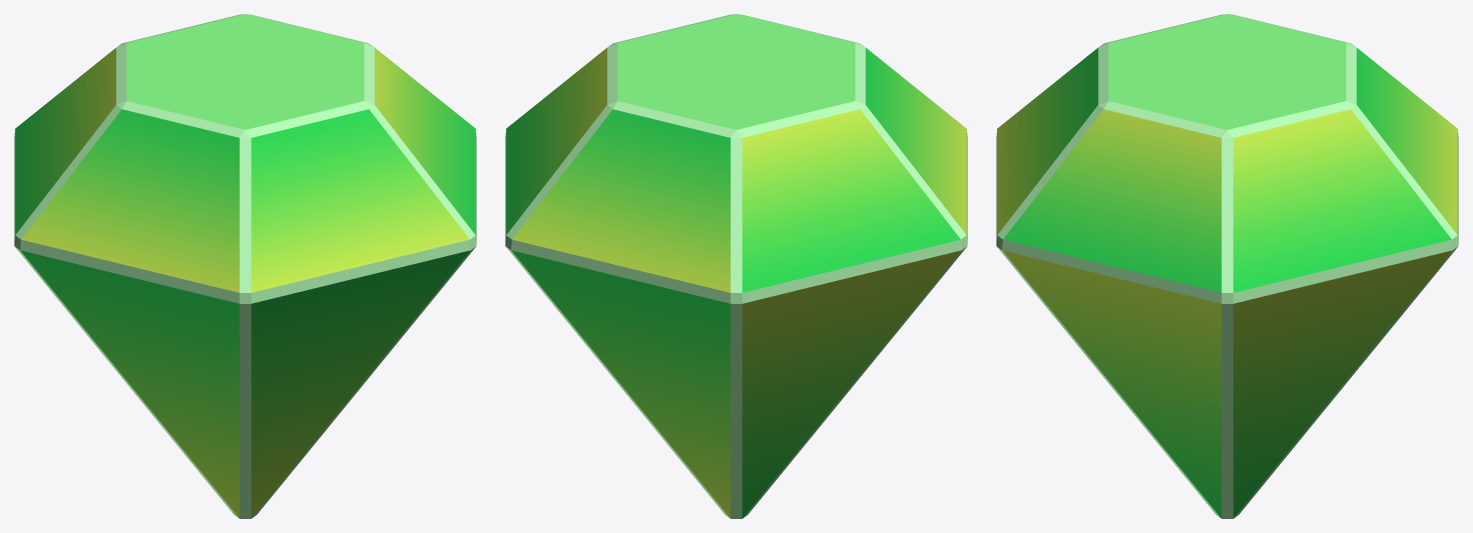
File: GemGreen.fbx
The picture shows the model from 3 angles, left to right: view 1: azimuth 30°, elevation 25°; view 2: azimuth 150°, elevation 25°; view 3: azimuth 270°, elevation 25°; orthographic projection.
Parts seen in each view (by area): view 1: GemGreen; view 2: GemGreen; view 3: GemGreen.
Boxes of the visible parts, box(x1,y1,x2,y2) form: GemGreen: box(14, 14, 476, 518); GemGreen: box(505, 14, 967, 518); GemGreen: box(996, 14, 1458, 518).
Bounding box in the file's own units: 99.42 × 92.11 × 87.18.
